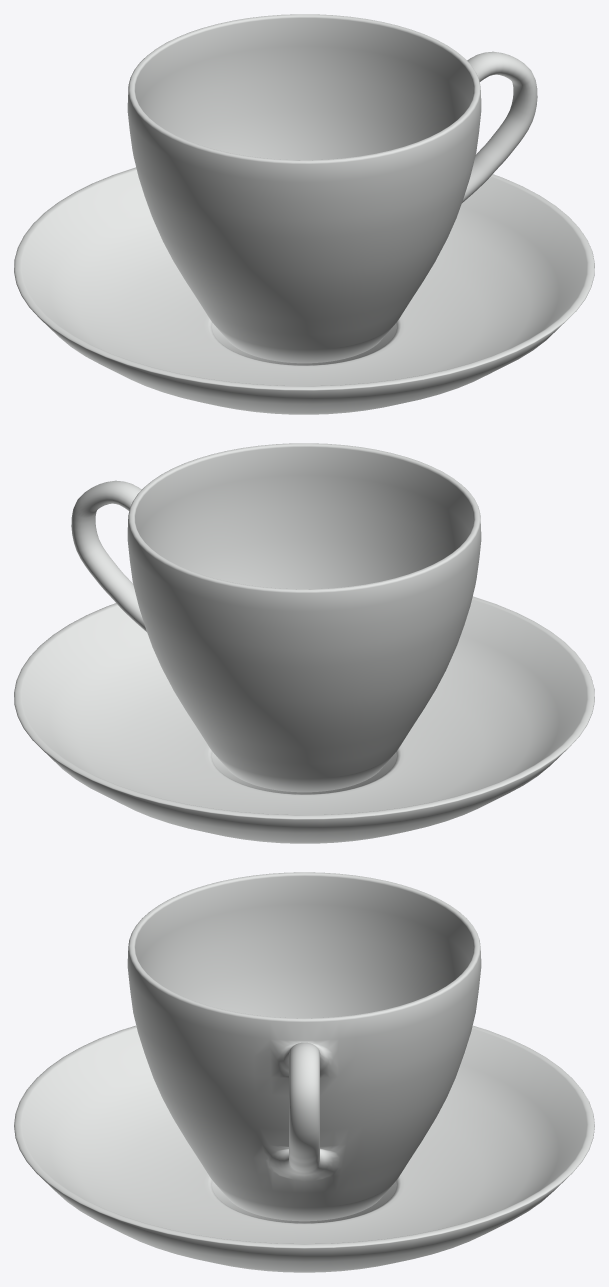
3 views of the same model, one above another, from view 1: azimuth 30°, elevation 25°; view 2: azimuth 150°, elevation 25°; view 3: azimuth 270°, elevation 25° (orthographic).
Visible parts, largest first — view 1: cup; view 2: cup; view 3: cup.
Boxes of the visible parts, bbox=[...] form: cup: bbox=[14, 14, 594, 414]; cup: bbox=[14, 443, 594, 843]; cup: bbox=[14, 872, 594, 1272].
Bounding box in the file's own units: 2 × 1.04 × 2.
Materials: 1 (1 with a texture image).
